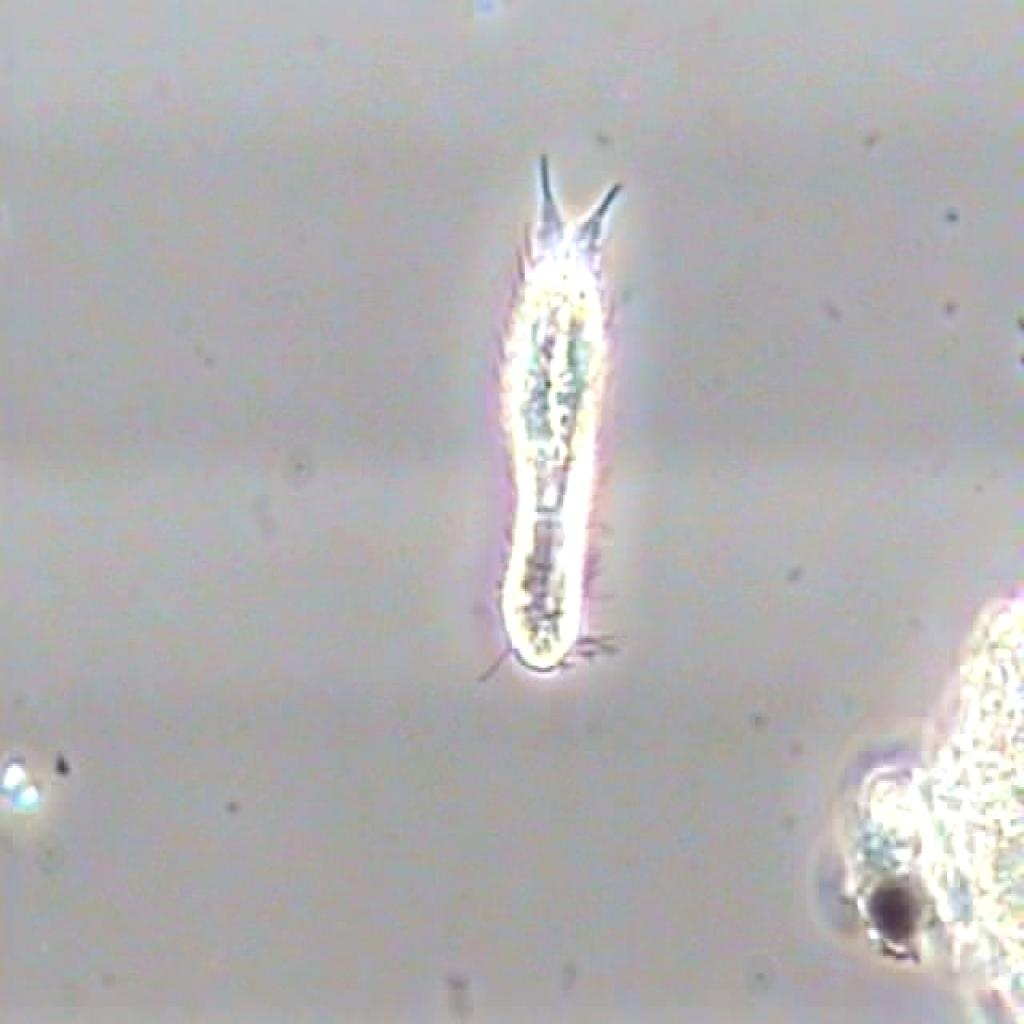Chaetonotus: (475, 122, 637, 693)
